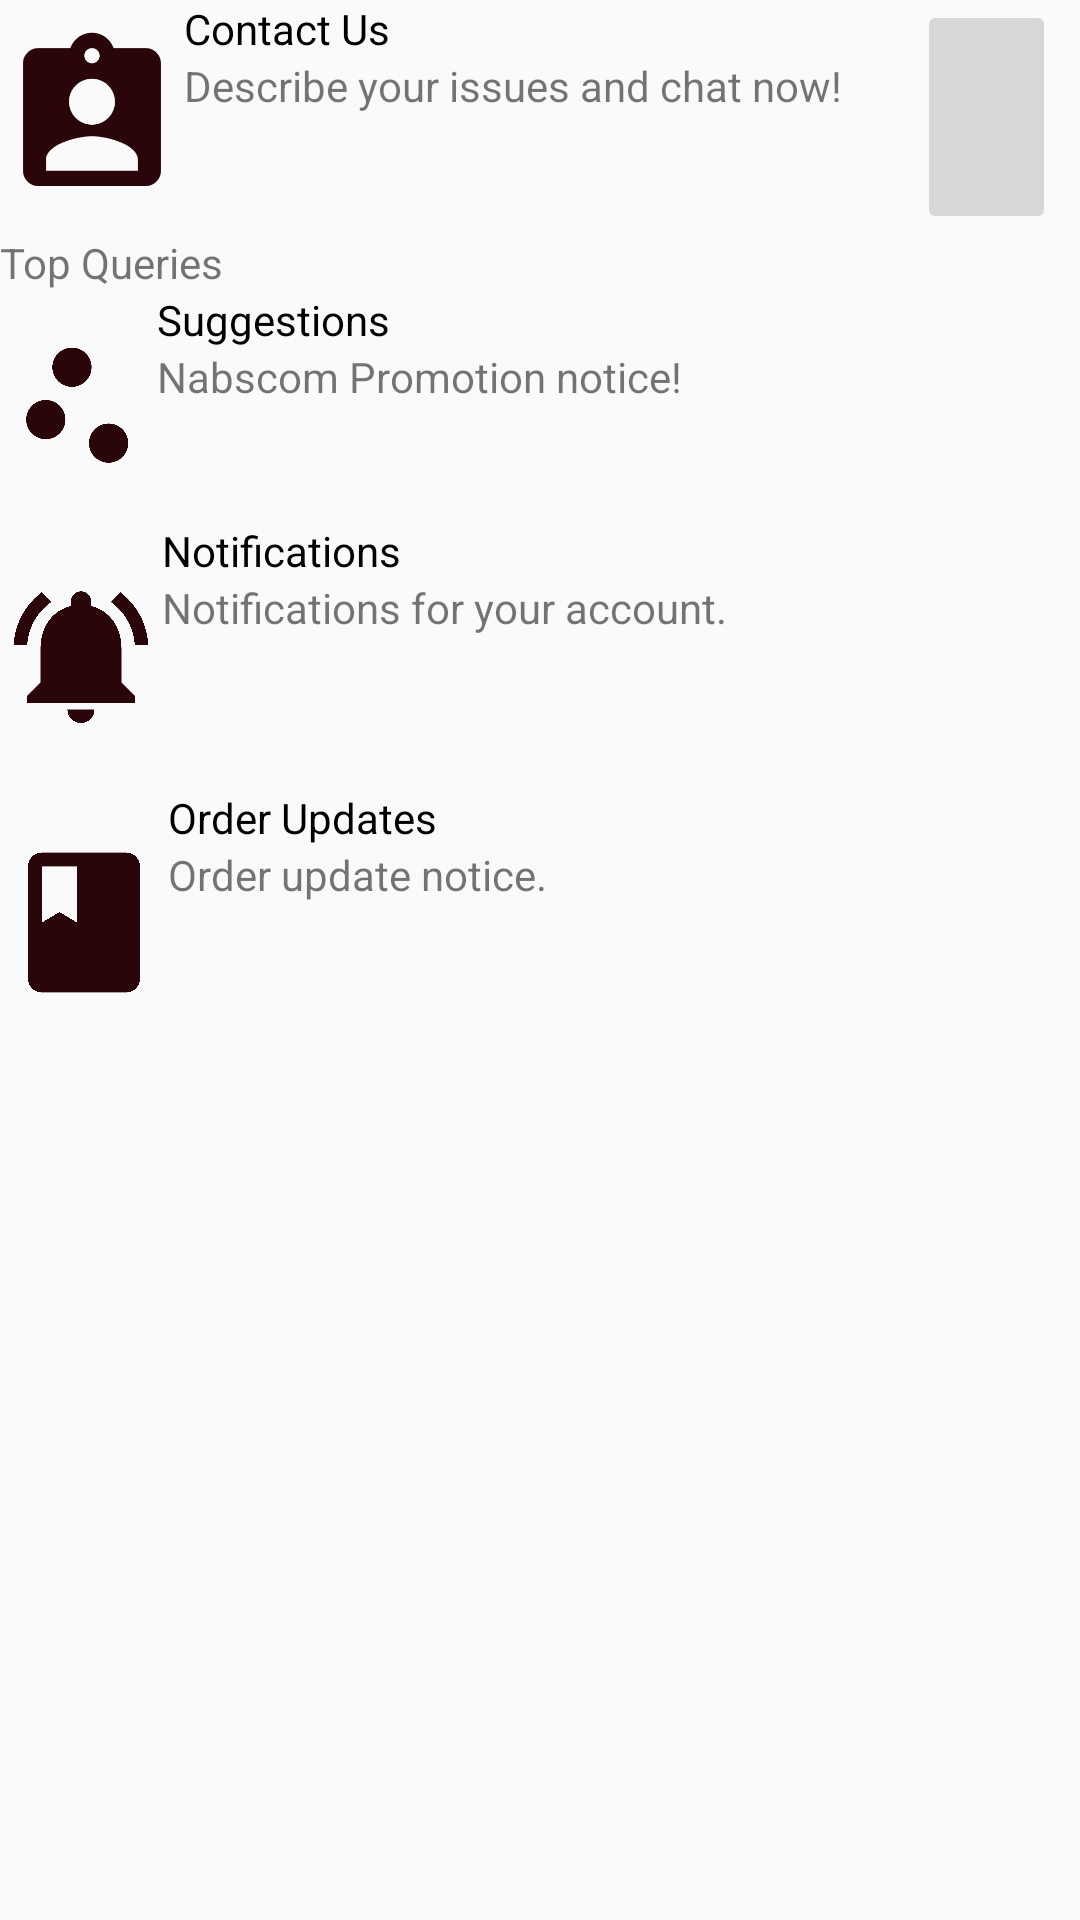

Screen size 1080w x 1920h. Icon name, then its box in pixels as (x1, y1, x2, y2):
assignment ind: (23, 32, 161, 186)
book: (28, 852, 140, 993)
scatter plot: (26, 348, 128, 463)
